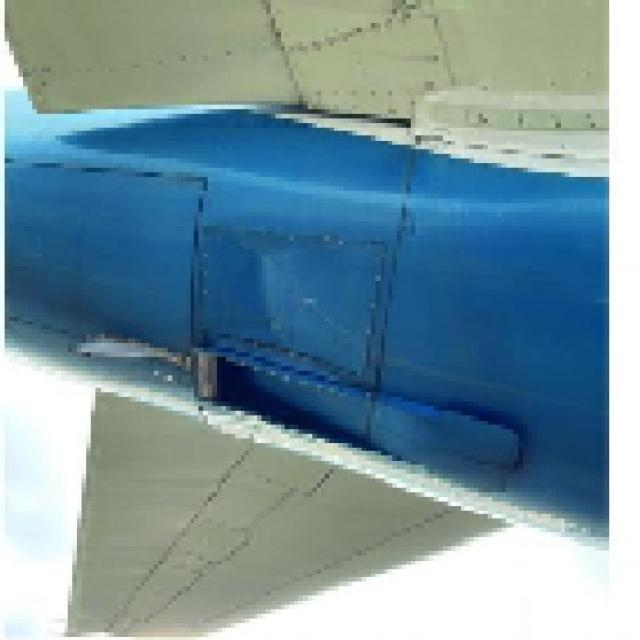dent: (201, 221, 304, 337)
